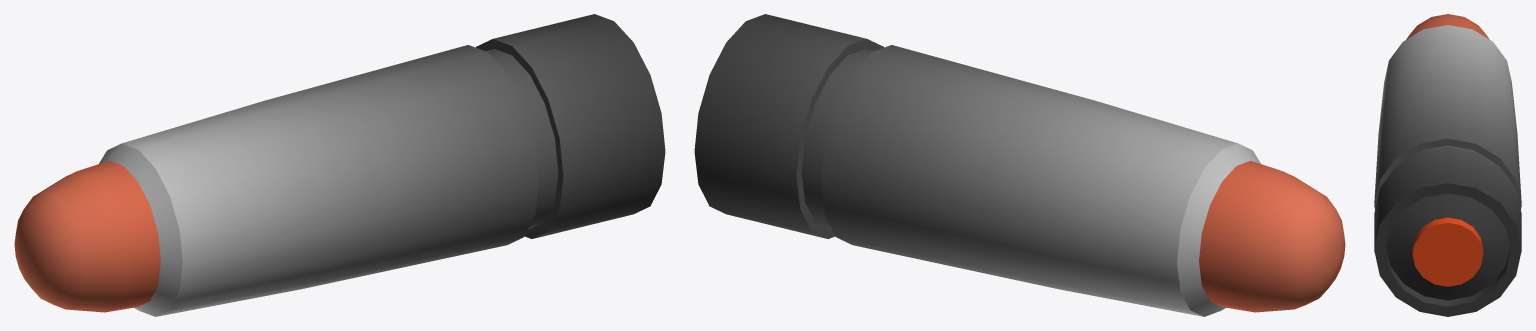
Rendered from Bullet.fbx.
3 views of the same model, side by side, from view 1: azimuth 30°, elevation 25°; view 2: azimuth 150°, elevation 25°; view 3: azimuth 270°, elevation 25° (orthographic). The views are drawn at different scales.
Visible parts, largest first — view 1: Bullet; view 2: Bullet; view 3: Bullet.
Part boxes in pixels (x1,y1,x2,y2): Bullet: (14, 14, 665, 316); Bullet: (694, 14, 1345, 316); Bullet: (1374, 14, 1521, 316).
Bounding box in the file's own units: 0.7958 × 0.2351 × 0.2351.
